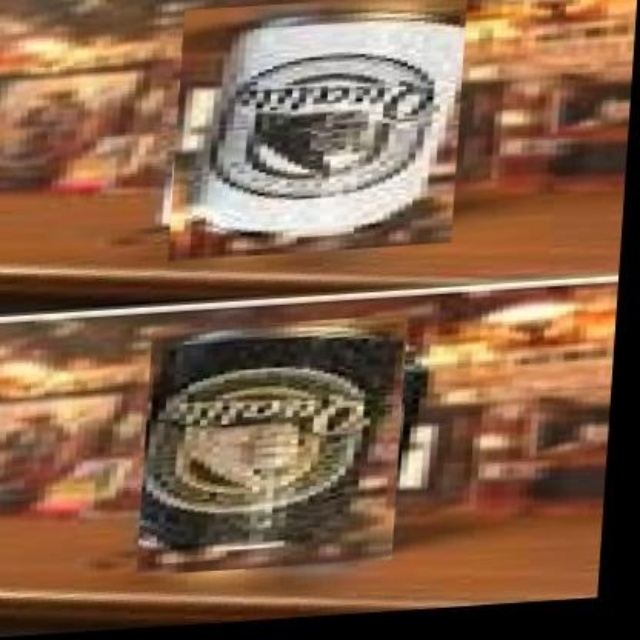trash: (171, 3, 462, 255), (140, 332, 402, 569)
